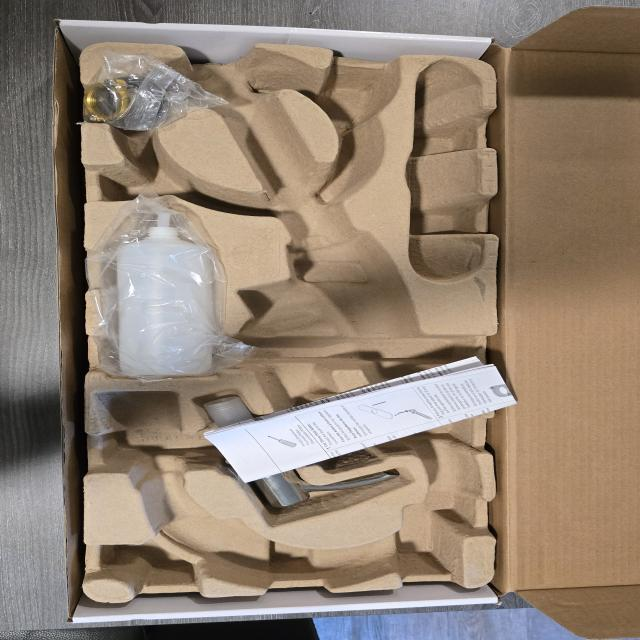1m: (95, 44, 478, 590)
2o: (204, 396, 394, 510)
3: (111, 210, 213, 378)
4m: (404, 59, 488, 284)
5m: (327, 72, 401, 121)
6: (78, 50, 232, 131)
7m: (95, 142, 231, 208)
8: (202, 356, 521, 481)
